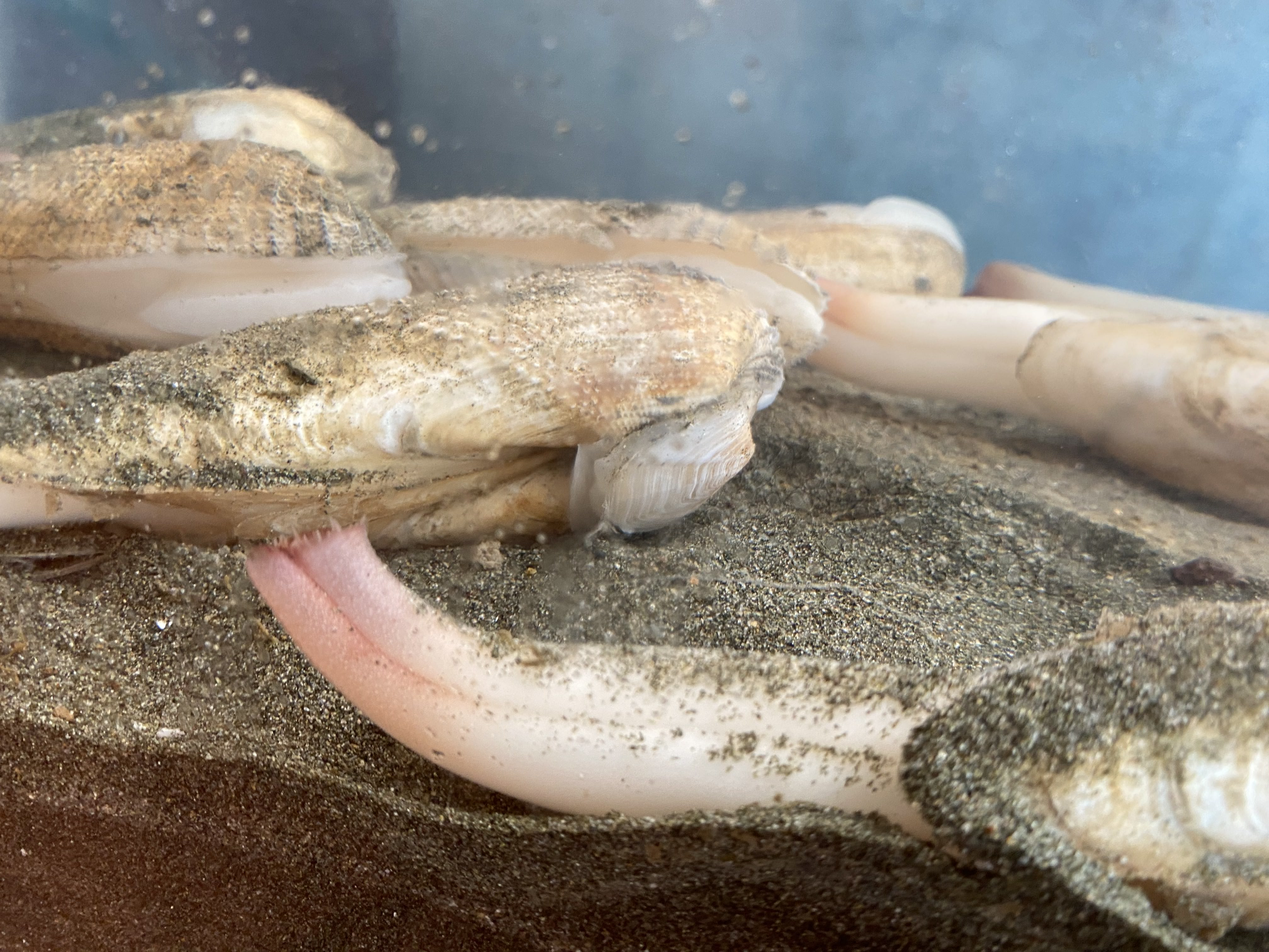Healthy: (247, 525, 1269, 938), (814, 262, 1269, 518)
